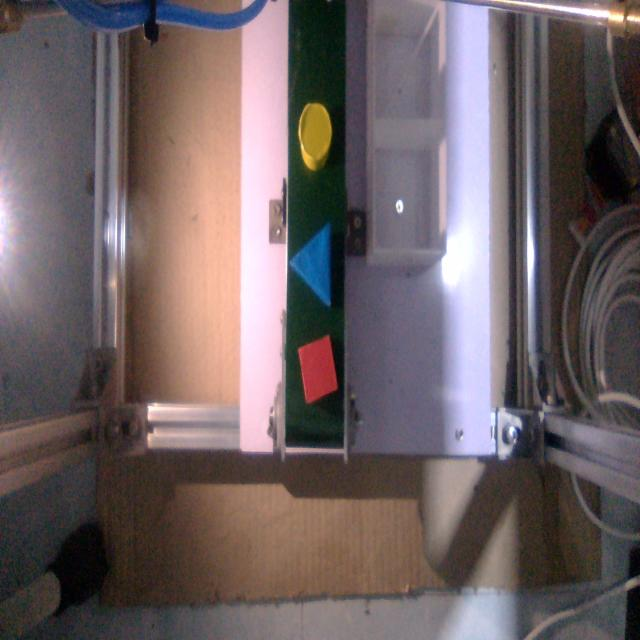BlueTri: (289, 218, 337, 312)
RedRec: (292, 335, 340, 411)
YelCir: (294, 103, 334, 176)
